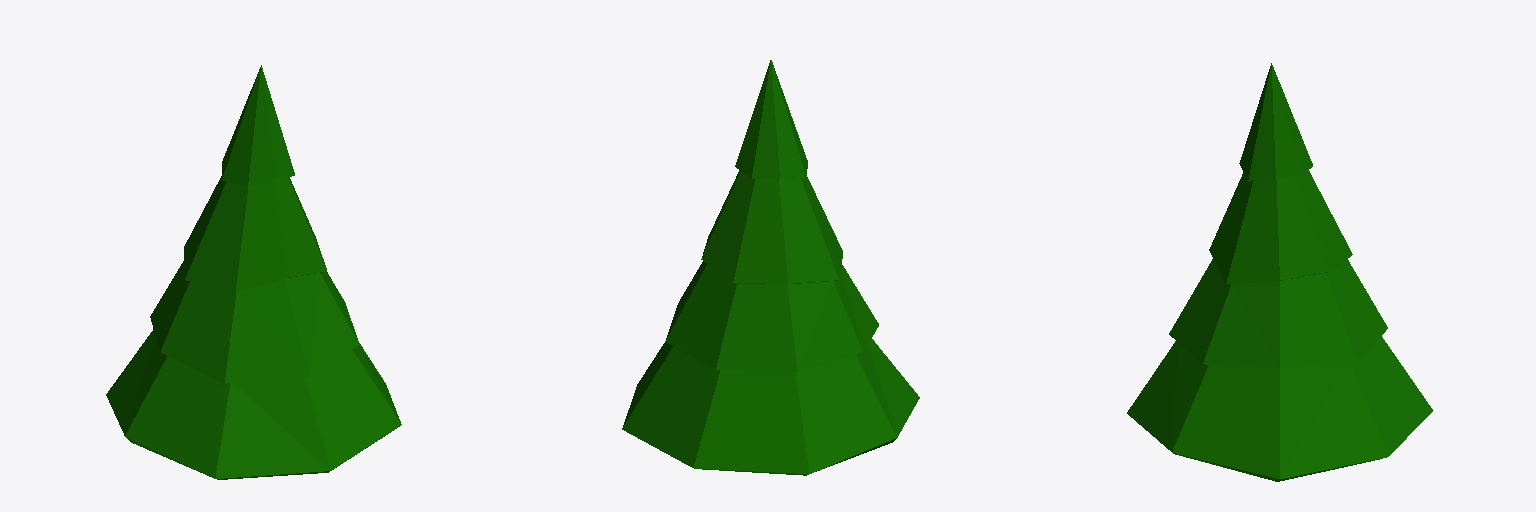
Rendered from spruce.obj.
3 renders of one model, left to right at view 1: azimuth 30°, elevation 25°; view 2: azimuth 150°, elevation 25°; view 3: azimuth 270°, elevation 25°, orthographic.
Visible parts, largest first — view 1: spruce pCone1; view 2: spruce pCone1; view 3: spruce pCone1.
Boxes of the visible parts, x1=… form: spruce pCone1: x1=106, y1=65, x2=401, y2=479; spruce pCone1: x1=622, y1=60, x2=919, y2=475; spruce pCone1: x1=1127, y1=63, x2=1432, y2=481.
Size of the model in its own units: 3.46 by 4.92 by 3.53.